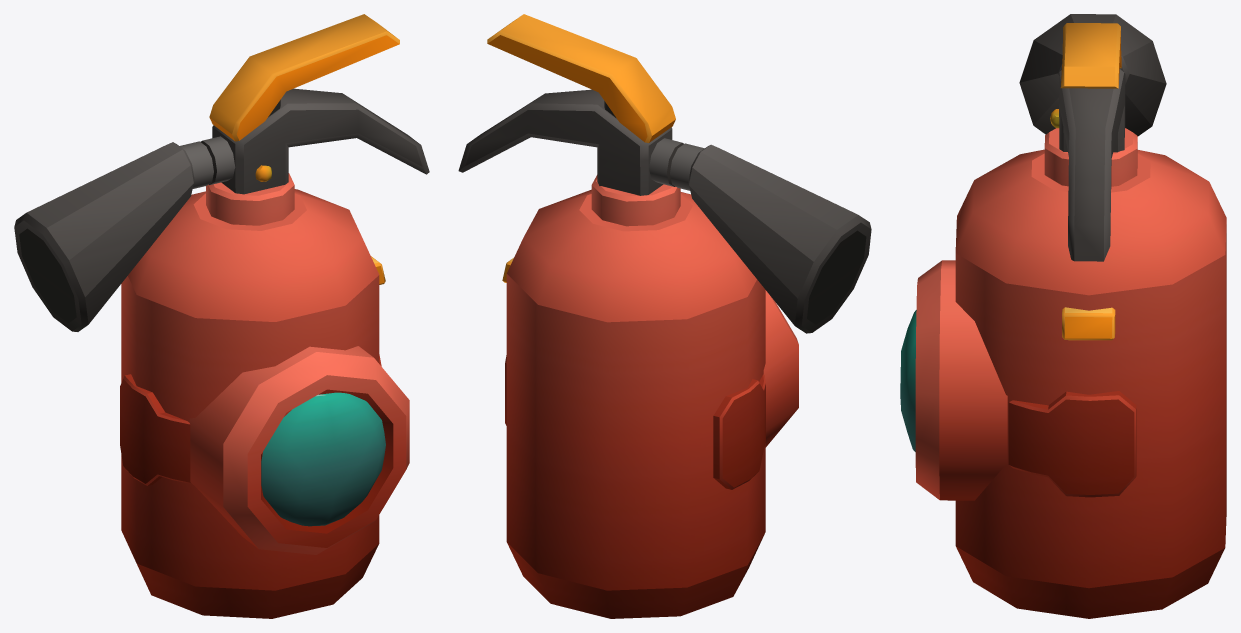
File: Fire_Extinguisher_1.fbx
3 renders of one model, left to right at view 1: azimuth 30°, elevation 25°; view 2: azimuth 150°, elevation 25°; view 3: azimuth 270°, elevation 25°, orthographic. The views are drawn at different scales.
Parts seen in each view (by area): view 1: Cylinder.017; view 2: Cylinder.017; view 3: Cylinder.017.
Boxes of the visible parts, x1,y1,x2,y2 form: Cylinder.017: (14, 14, 429, 618); Cylinder.017: (458, 14, 871, 618); Cylinder.017: (900, 14, 1226, 618).
Size of the model in its own units: 40.18 by 51.35 by 26.82.
